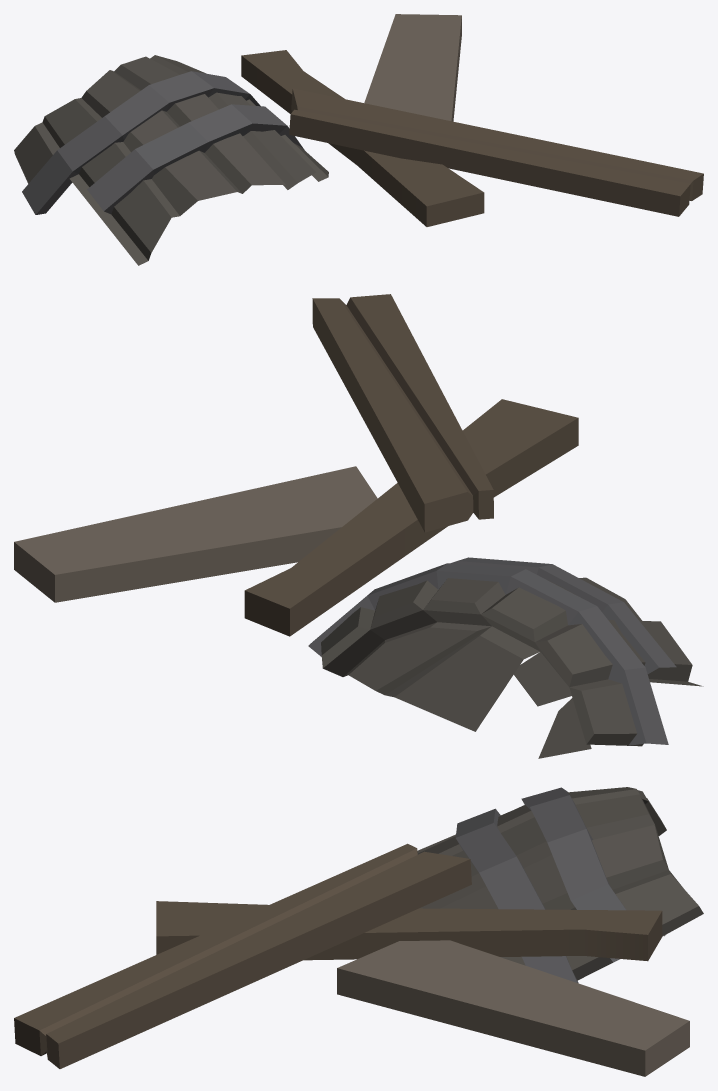
The model's file is SM_Prop_Debris_03.glb.
The picture shows the model from 3 angles, top to bottom: view 1: azimuth 30°, elevation 25°; view 2: azimuth 150°, elevation 25°; view 3: azimuth 270°, elevation 25°; orthographic projection. The views are drawn at different scales.
Parts seen in each view (by area): view 1: SM_Prop_Debris_03; view 2: SM_Prop_Debris_03; view 3: SM_Prop_Debris_03.
Boxes of the visible parts, x1=… form: SM_Prop_Debris_03: x1=14, y1=14, x2=703, y2=265; SM_Prop_Debris_03: x1=14, y1=294, x2=703, y2=758; SM_Prop_Debris_03: x1=14, y1=787, x2=703, y2=1076.
Size of the model in its own units: 0.014 by 0.00323 by 0.0142.
